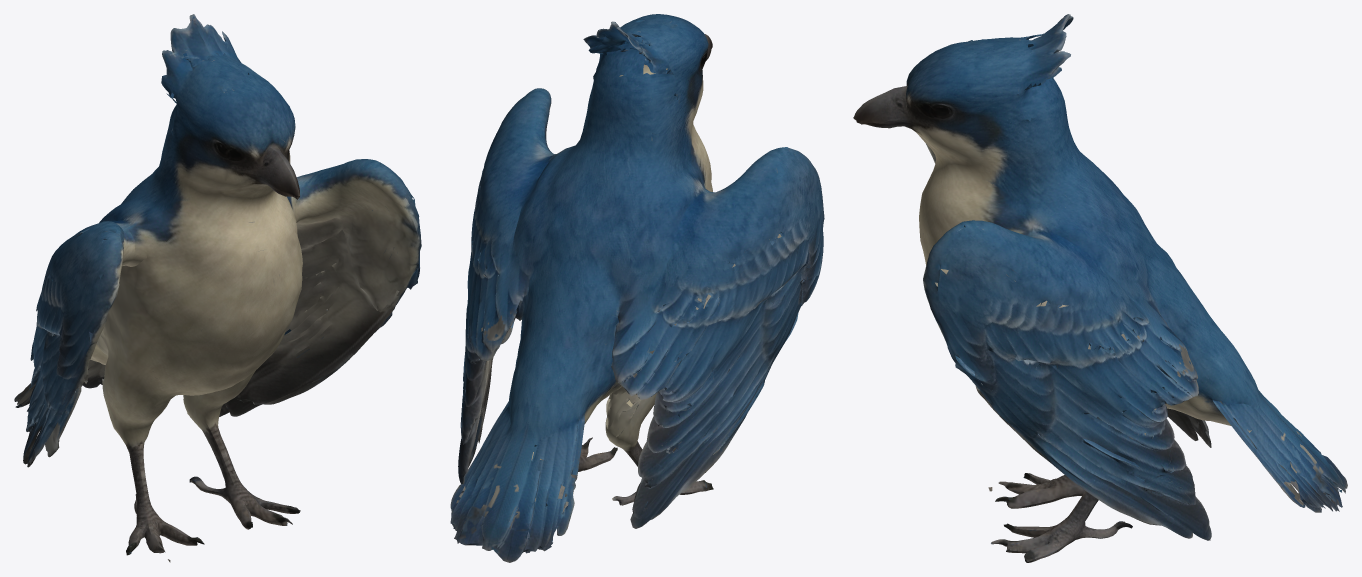
File: pipwing.glb
3 views of the same model, side by side, from view 1: azimuth 30°, elevation 25°; view 2: azimuth 150°, elevation 25°; view 3: azimuth 270°, elevation 25° (orthographic). The views are drawn at different scales.
Visible parts, largest first — view 1: Mesh_0; view 2: Mesh_0; view 3: Mesh_0.
Part boxes in pixels (bbox=[...]): Mesh_0: bbox=[14, 14, 421, 562]; Mesh_0: bbox=[450, 14, 824, 562]; Mesh_0: bbox=[853, 14, 1347, 562].
Bounding box in the file's own units: 1.35 × 1.89 × 1.66.
1 material, 1 textured.
